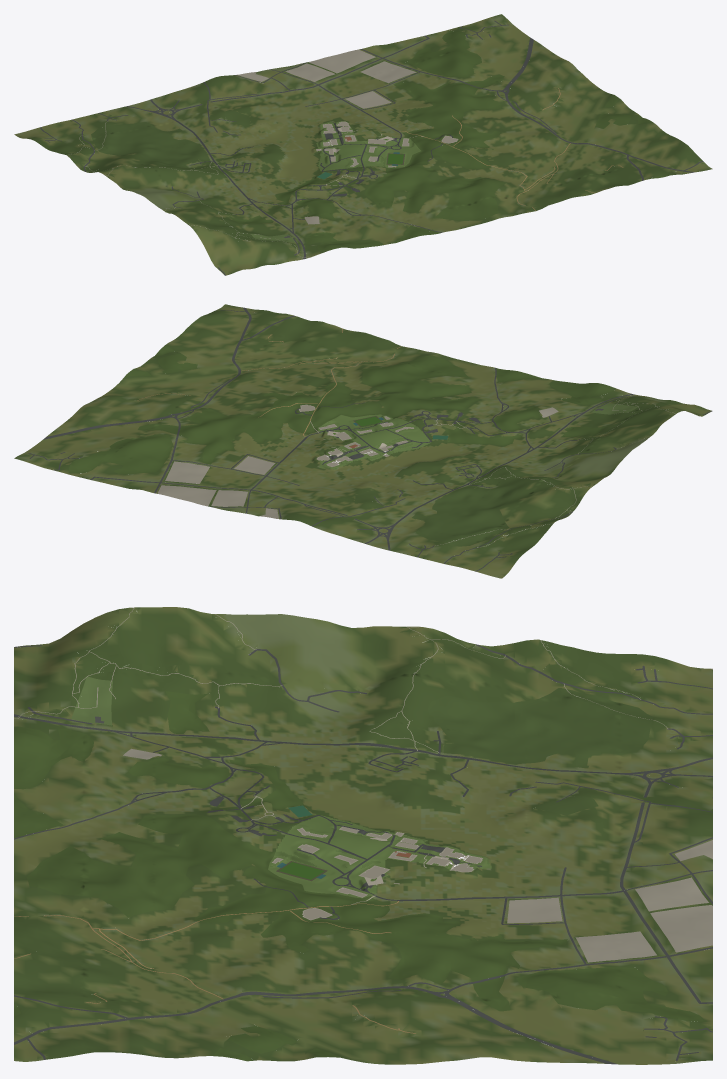
The picture shows the model from 3 angles, top to bottom: view 1: azimuth 30°, elevation 25°; view 2: azimuth 150°, elevation 25°; view 3: azimuth 270°, elevation 25°; orthographic projection. The views are drawn at different scales.
Parts seen in each view (by area): view 1: surface_ctxLand, surface_forest, surface_ctxForest, surface_ctxRoad, surface_ctxBlock, surface_grass, surface_asphalt, surface_underfoot, surface_apron; view 2: surface_ctxLand, surface_forest, surface_ctxForest, surface_ctxRoad, surface_grass, surface_ctxBlock, surface_asphalt, surface_underfoot, surface_apron; view 3: surface_ctxLand, surface_forest, surface_ctxForest, surface_ctxRoad, surface_ctxBlock, surface_grass, surface_asphalt, surface_underfoot, surface_ctxPark, surface_ctxWalk, surface_apron.
Part boxes in pixels (left/top/right/bottom): surface_ctxLand: left=14, top=14, right=712, bottom=275; surface_forest: left=229, top=30, right=665, bottom=252; surface_ctxForest: left=91, top=110, right=250, bottom=166; surface_ctxRoad: left=40, top=20, right=703, bottom=275; surface_ctxBlock: left=237, top=49, right=416, bottom=224; surface_grass: left=316, top=121, right=420, bottom=171; surface_asphalt: left=175, top=90, right=452, bottom=227; surface_underfoot: left=317, top=122, right=457, bottom=166; surface_apron: left=316, top=121, right=458, bottom=167; surface_ctxLand: left=14, top=304, right=711, bottom=578; surface_forest: left=68, top=312, right=614, bottom=474; surface_ctxForest: left=354, top=485, right=518, bottom=546; surface_ctxRoad: left=28, top=307, right=712, bottom=571; surface_grass: left=318, top=414, right=430, bottom=469; surface_ctxBlock: left=157, top=407, right=558, bottom=518; surface_asphalt: left=231, top=402, right=579, bottom=523; surface_underfoot: left=299, top=405, right=412, bottom=466; surface_apron: left=299, top=404, right=413, bottom=466; surface_ctxLand: left=14, top=607, right=712, bottom=1064; surface_forest: left=14, top=691, right=706, bottom=1061; surface_ctxForest: left=428, top=688, right=653, bottom=815; surface_ctxRoad: left=14, top=644, right=712, bottom=1064; surface_ctxBlock: left=123, top=748, right=712, bottom=962; surface_grass: left=268, top=815, right=491, bottom=898; surface_asphalt: left=133, top=706, right=619, bottom=924; surface_underfoot: left=273, top=826, right=481, bottom=919; surface_ctxPark: left=71, top=676, right=112, bottom=725; surface_ctxWalk: left=14, top=607, right=712, bottom=728; surface_apron: left=272, top=826, right=482, bottom=920.
Size of the model in its own units: 2560 by 196 by 1920.
24 materials, 24 textured.
